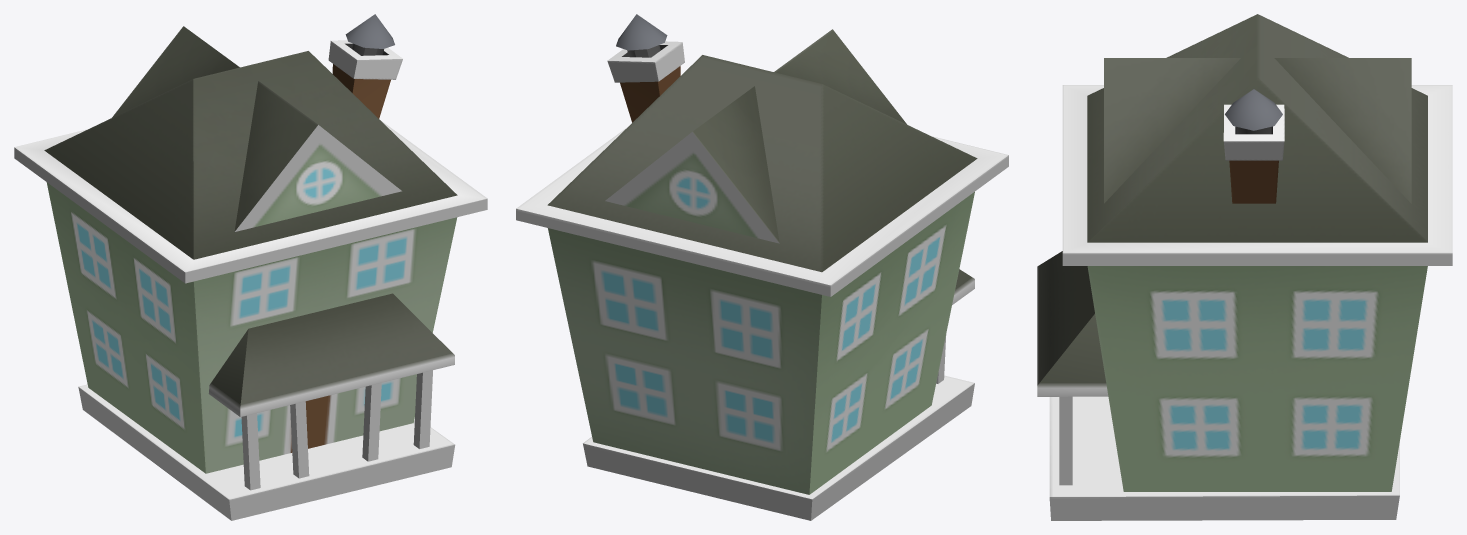
The model's file is house.FBX.
3 views of the same model, side by side, from view 1: azimuth 30°, elevation 25°; view 2: azimuth 150°, elevation 25°; view 3: azimuth 270°, elevation 25° (orthographic). The views are drawn at different scales.
Parts seen in each view (by area): view 1: house; view 2: house; view 3: house.
Part boxes in pixels (left/top/right/bottom): house: left=14, top=14, right=487, bottom=520; house: left=516, top=14, right=1008, bottom=520; house: left=1037, top=14, right=1452, bottom=520.
Bounding box in the file's own units: 31.03 × 37.78 × 32.39.
